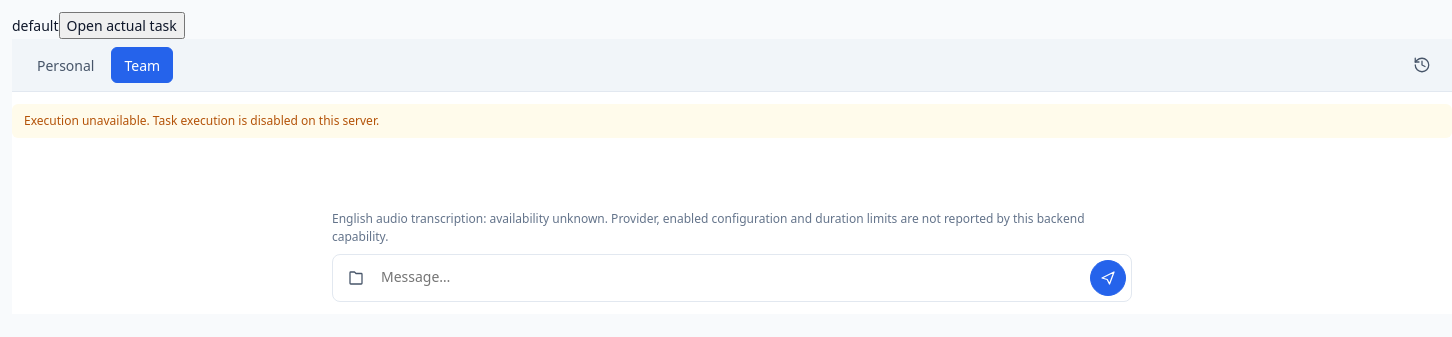
Test case: LG057 private UI isolation › keeps late private send failures out of the shared Team conversation
Click the tab "Personal": (66, 65) [24,47,108,83]
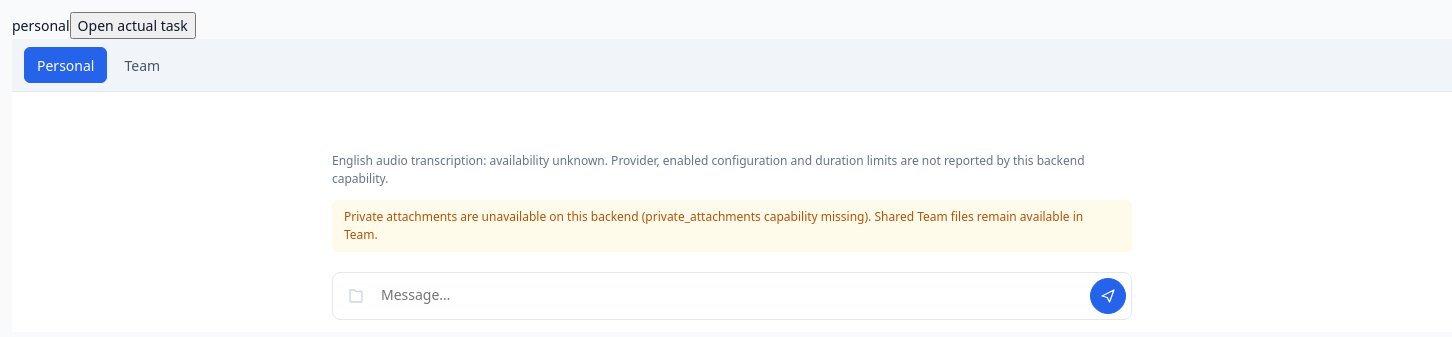
In the text box named "Message for Personal": (732, 296) [332,272,1132,320], type "private request"
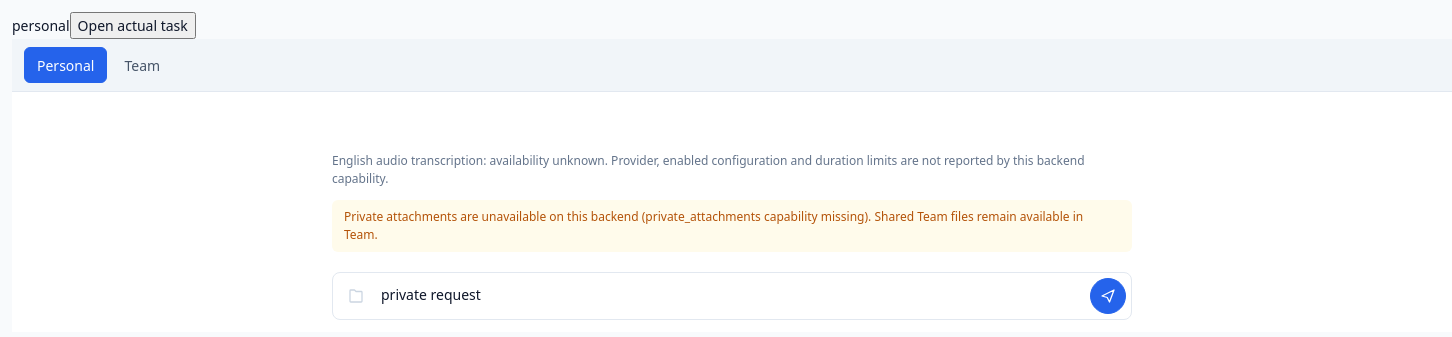
Press Enter in the text box named "Message for Personal", box [332,272,1132,320]
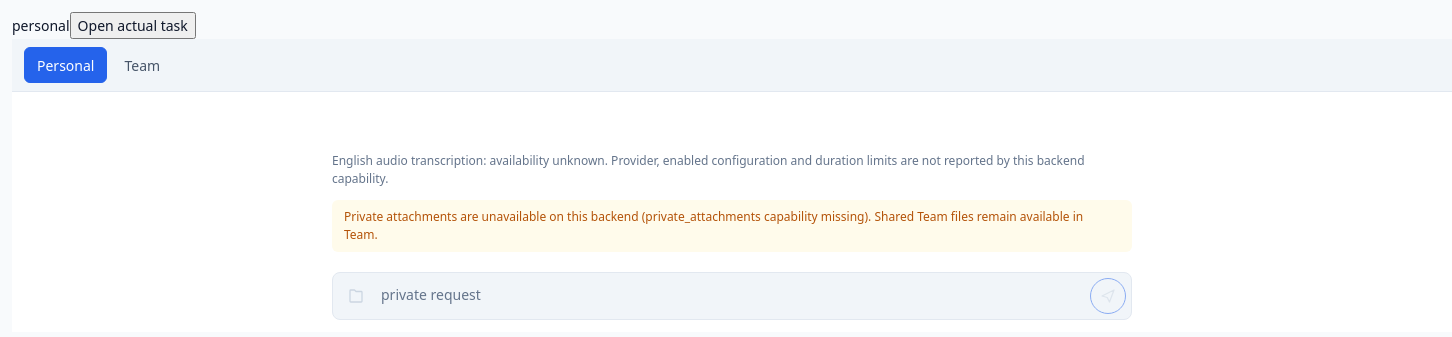
Click the tab "Team": (142, 65) [112,47,173,83]
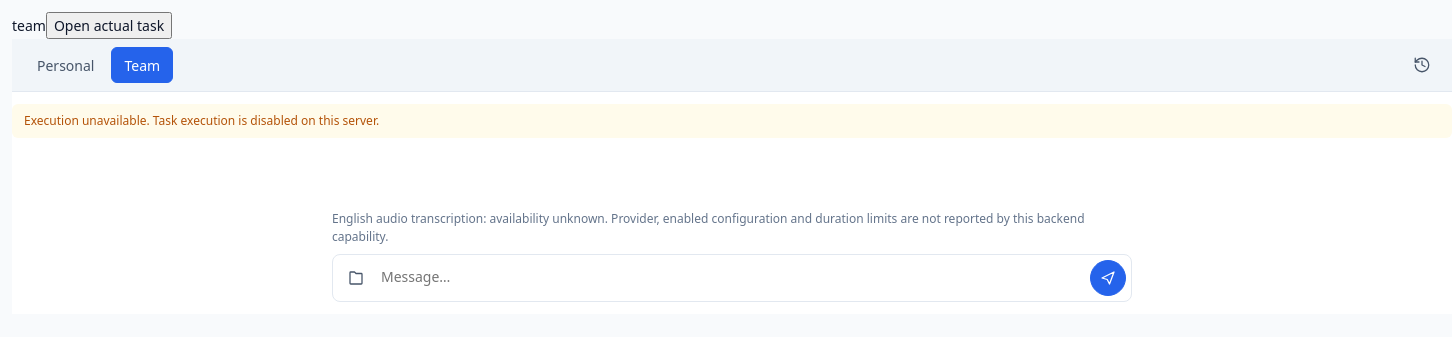
Expected: the text box named "Message for Global" is enabled, [332,254,1132,302]
